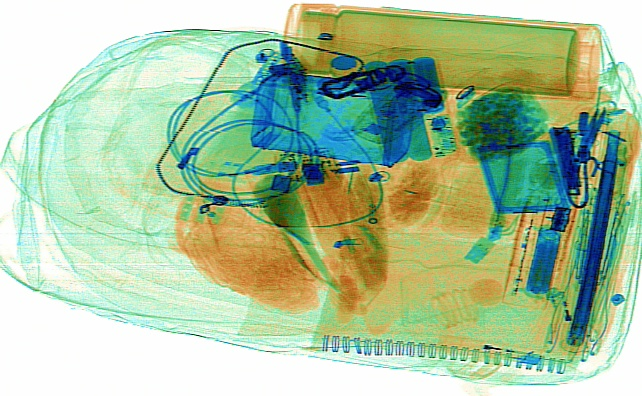lighter: (544, 284, 577, 347)
powerbank: (353, 47, 458, 166)
